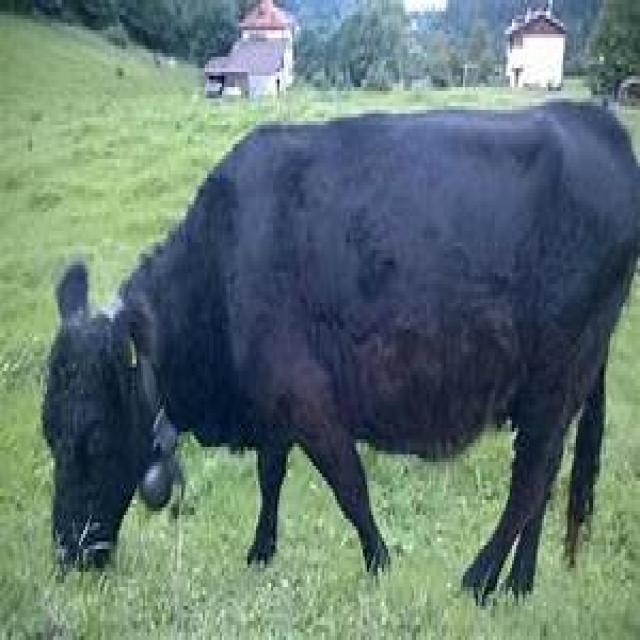cow: (41, 102, 640, 610)
